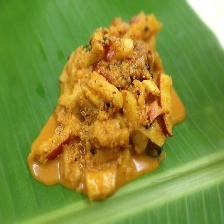sabzi: (26, 4, 199, 202)
